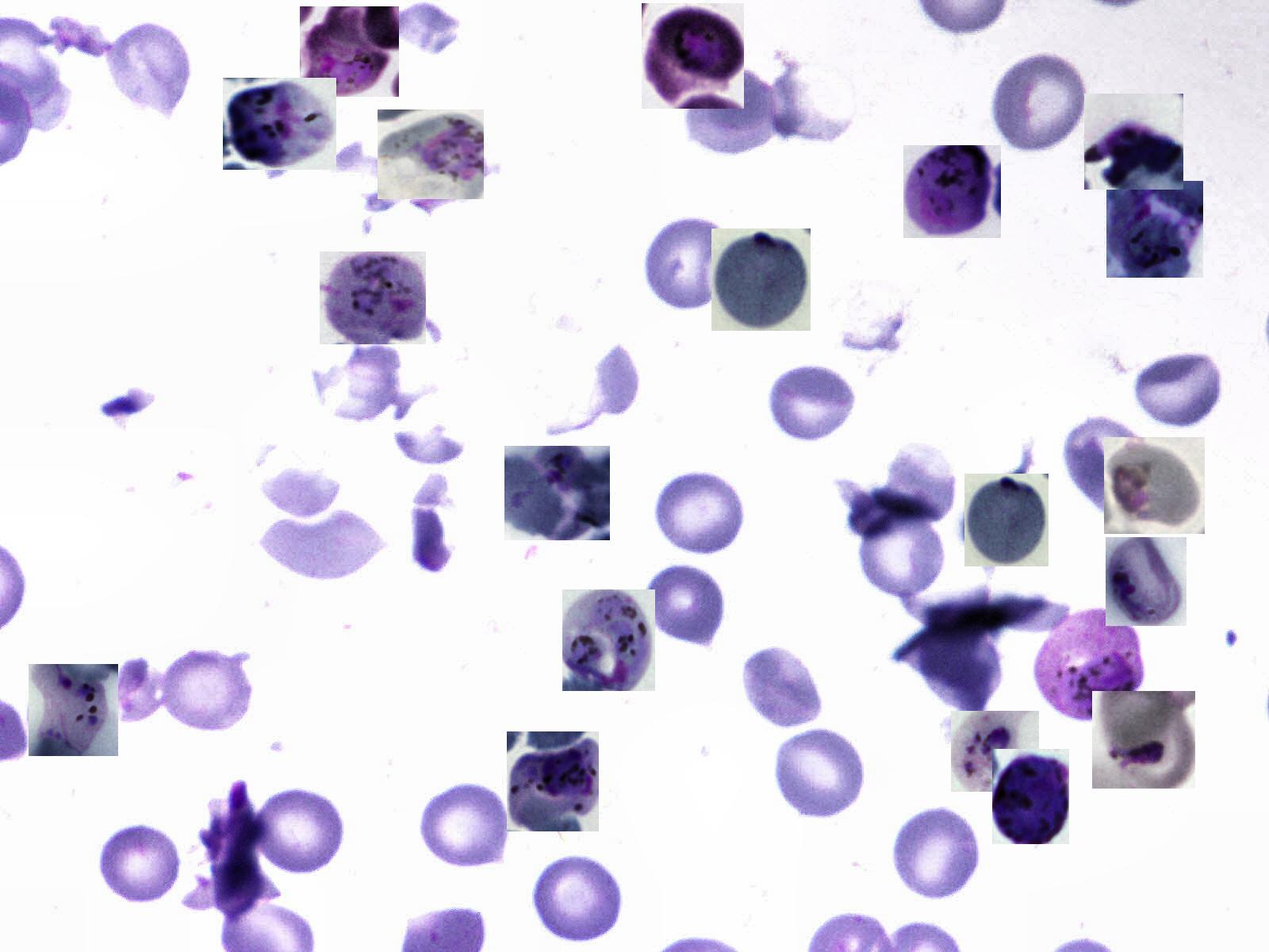Infected: (1033, 605, 1146, 720), (642, 3, 745, 109), (223, 78, 336, 170), (711, 228, 811, 331), (1092, 691, 1195, 789), (504, 446, 610, 540), (320, 252, 426, 345), (1104, 437, 1205, 534), (378, 110, 484, 200), (1084, 94, 1183, 190), (562, 589, 655, 691), (1106, 181, 1203, 278), (507, 731, 599, 831), (903, 145, 1001, 238), (300, 6, 399, 97), (29, 664, 118, 756), (964, 474, 1049, 566), (992, 749, 1069, 844), (1106, 537, 1187, 626), (951, 711, 1039, 792)
Uninfected: (906, 597, 1003, 705), (991, 50, 1087, 157), (682, 61, 785, 156), (641, 214, 739, 313), (773, 725, 870, 821), (254, 509, 385, 580), (1061, 418, 1156, 514), (652, 466, 753, 556), (248, 785, 349, 873), (532, 851, 625, 946), (418, 780, 512, 872), (105, 21, 194, 116), (894, 805, 983, 899), (161, 646, 254, 735), (1133, 344, 1227, 430), (862, 501, 942, 601), (102, 819, 186, 905), (641, 566, 727, 649), (769, 359, 856, 440), (744, 645, 824, 727)
